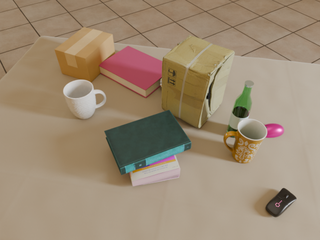book: (104, 110, 191, 175), (99, 46, 162, 98), (130, 155, 180, 186)
bottle: (227, 80, 254, 137)
box: (161, 35, 235, 128), (55, 27, 115, 82)
cup: (224, 118, 267, 163), (63, 79, 106, 119)
mouse: (266, 188, 296, 217), (264, 123, 284, 138)
